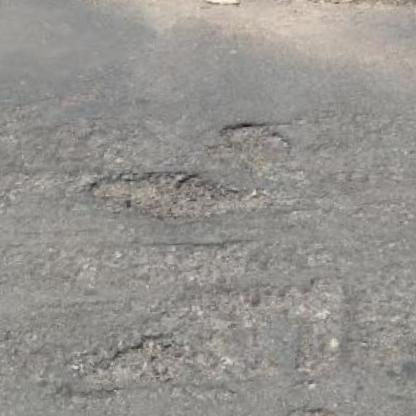pothole: (86, 163, 254, 222), (84, 329, 196, 387), (220, 116, 295, 159)
